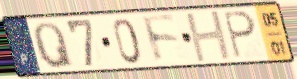0: (112, 17, 143, 65)
7: (63, 18, 97, 69)
F: (140, 14, 182, 66)
H: (183, 9, 234, 65)
P: (221, 10, 258, 61)
Q: (31, 20, 77, 70)
